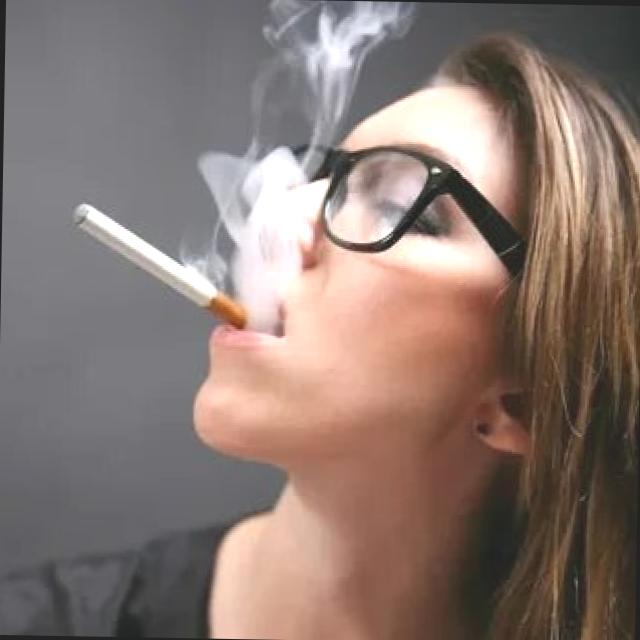cigarette: (66, 198, 257, 336)
